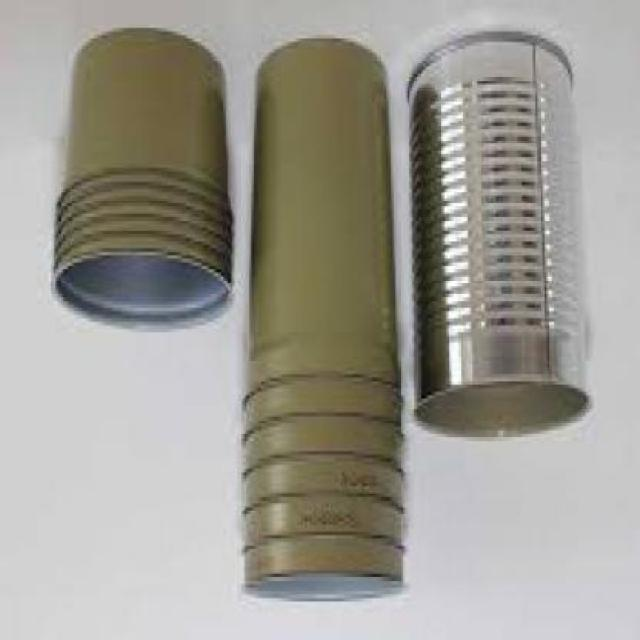METAL: (238, 42, 405, 606), (404, 38, 590, 437), (52, 28, 233, 332)
